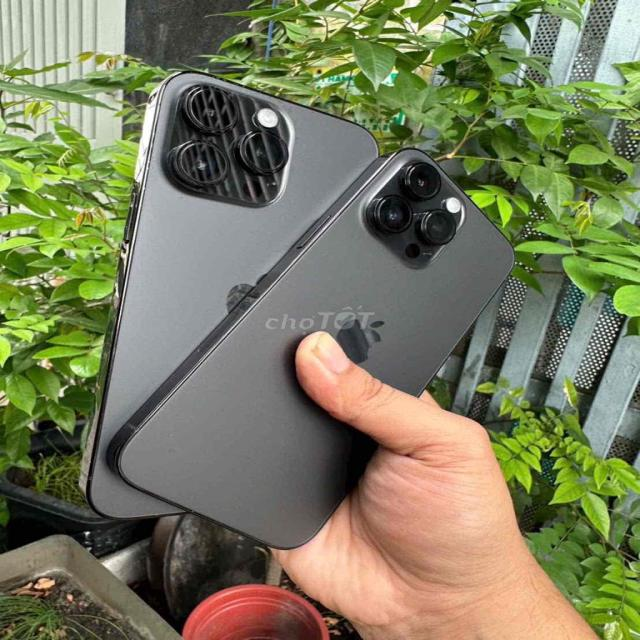gen_14: (85, 59, 376, 552)
